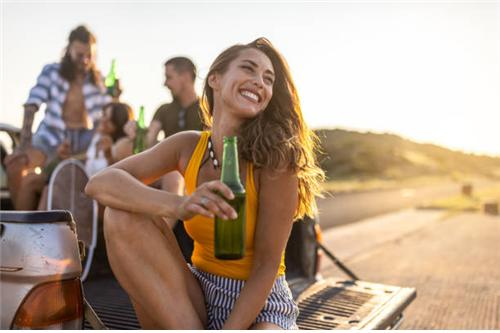alcohol: (212, 135, 247, 264), (134, 108, 147, 154), (106, 59, 118, 97)
